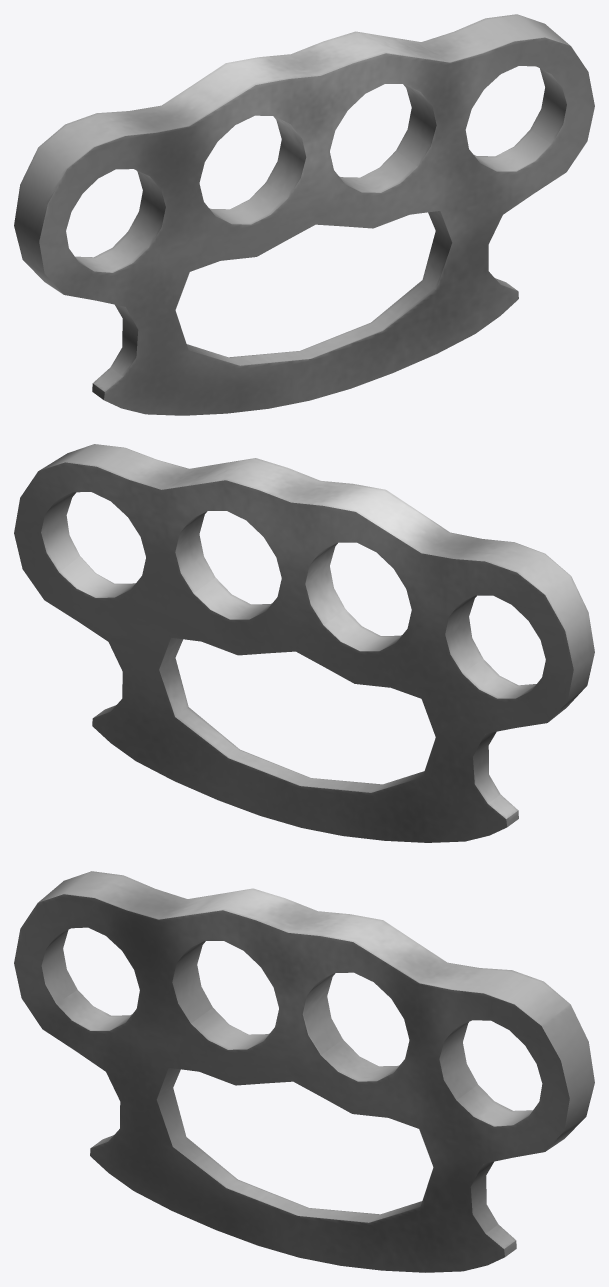
The model's file is kastet.FBX.
3 views of the same model, one above another, from view 1: azimuth 30°, elevation 25°; view 2: azimuth 150°, elevation 25°; view 3: azimuth 330°, elevation 25° (orthographic).
Parts seen in each view (by area): view 1: Object007; view 2: Object007; view 3: Object007.
Part boxes in pixels (left/top/right/bottom): Object007: left=14, top=14, right=594, bottom=415; Object007: left=14, top=444, right=594, bottom=842; Object007: left=14, top=871, right=594, bottom=1272.
Bounding box in the file's own units: 505 × 293 × 47.03.
